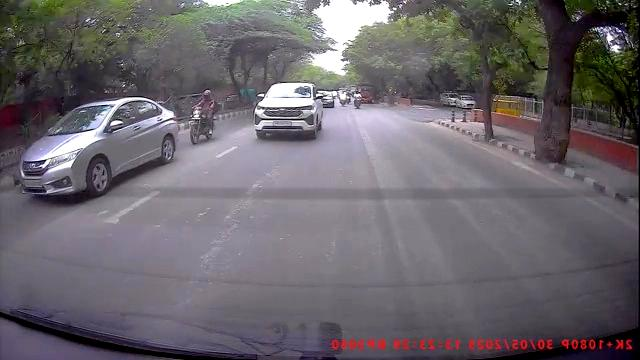motorcycle_with_helmet: (188, 87, 217, 145)
